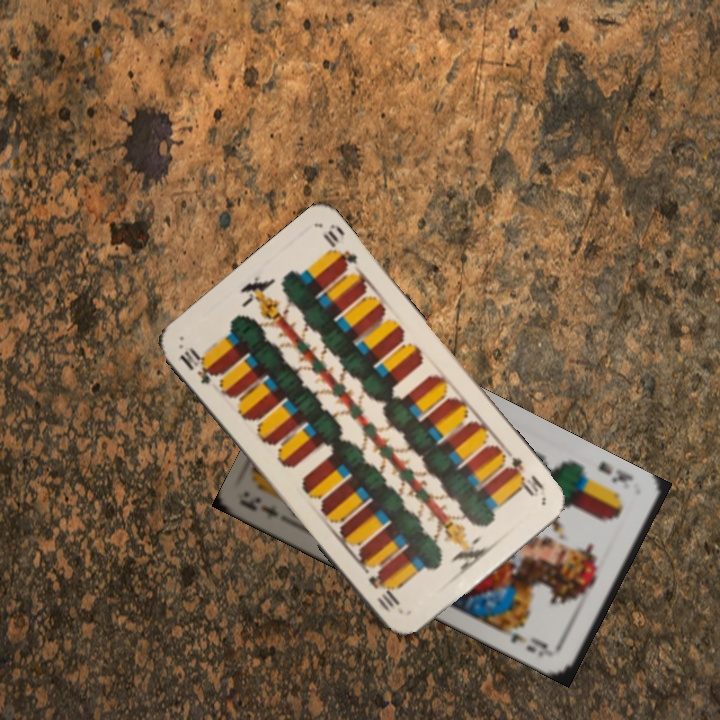E10: (498, 449, 548, 500), (175, 343, 220, 387)
EK: (594, 457, 636, 487), (240, 492, 281, 520)
